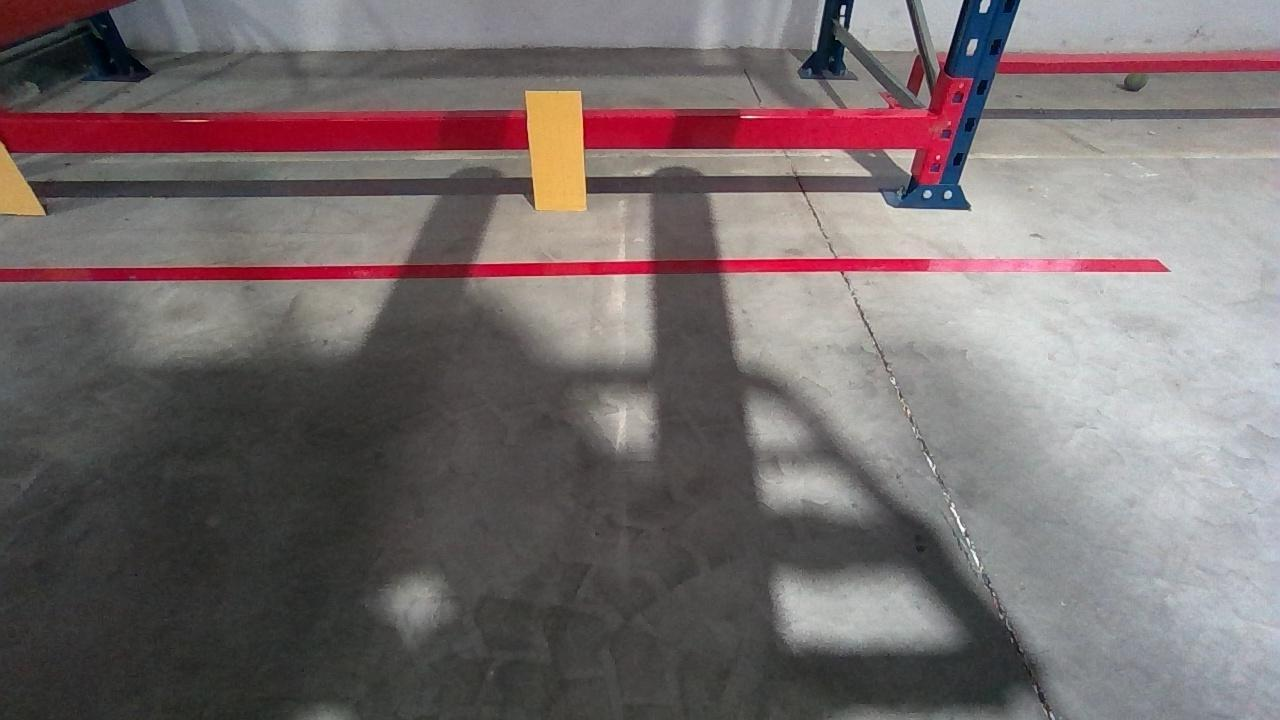h_rack: (0, 115, 938, 152)
orange_strip: (525, 91, 587, 210), (0, 141, 44, 216)
red_line: (2, 257, 1172, 275)
